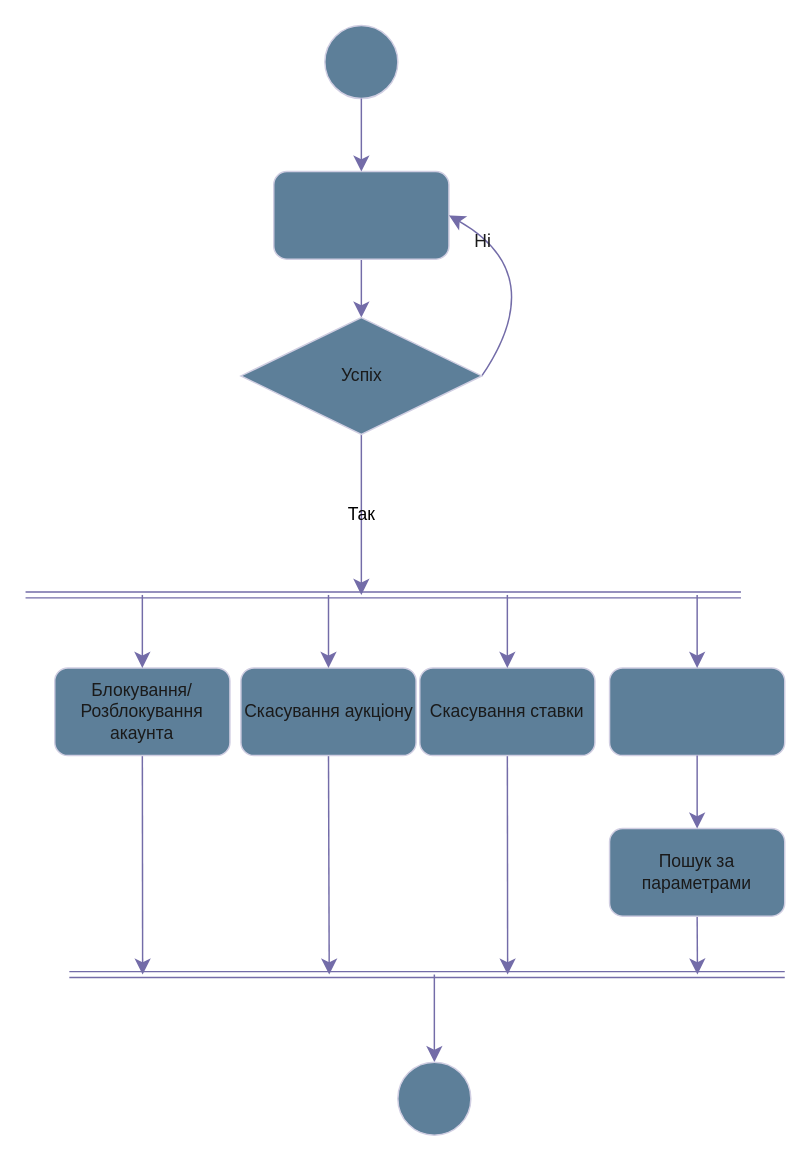
Image size: 810x1161. Some labels were removed from this diagram. The centre of each missing label's shape, as x and y in pixels:
"Авторизація" goes at pixel 360 214.
"Перегляд логів" goes at pixel 696 711.
